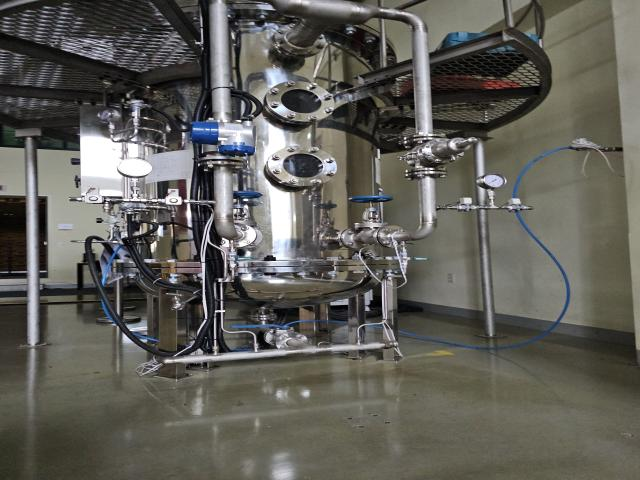Flange: (263, 80, 336, 124), (264, 146, 338, 188)
Flush Ring: (272, 23, 327, 56), (214, 222, 257, 248), (372, 225, 408, 249), (198, 156, 246, 172), (338, 227, 372, 249), (403, 132, 448, 148), (274, 331, 308, 352), (406, 166, 448, 180)
GasRegulator: (97, 99, 169, 151)
Nuts: (79, 194, 109, 204), (156, 197, 190, 205), (503, 204, 529, 213), (452, 204, 480, 212)
Piston Valve: (347, 196, 392, 229), (232, 190, 263, 226)
Pressure Gage: (117, 158, 153, 201), (477, 173, 508, 209)
